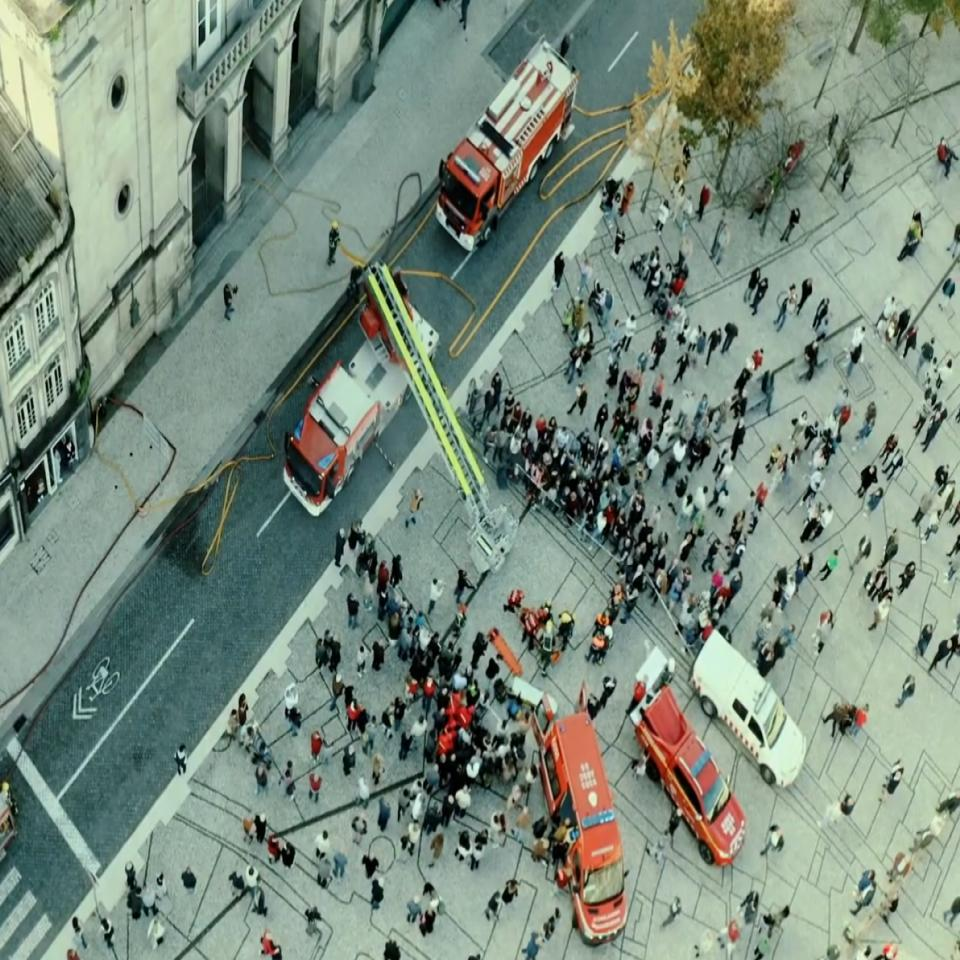viatura: (283, 261, 439, 518), (434, 34, 581, 254), (531, 680, 631, 947), (635, 686, 747, 870)
